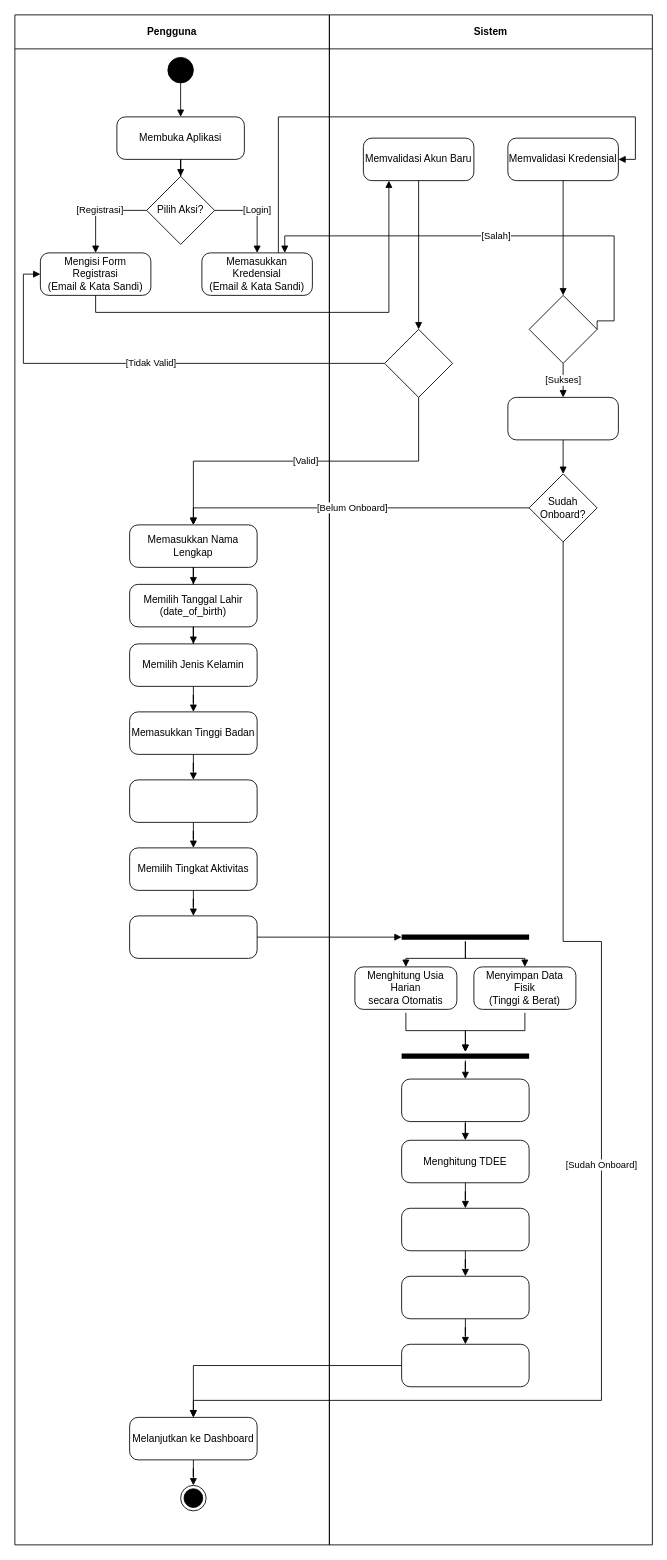
The diagram is 667 pixels wide and 1560 high, and some of its shapes have lost their labels. Here are the shapes that lost their labels. From the top down, the centre of each, then its label:
(x=562, y=329): Sukses?
(x=418, y=363): Valid?
(x=562, y=418): Memeriksa Kelengkapan Profil User
(x=193, y=800): Memasukkan Berat Badan
(x=193, y=936): Memilih Target Kebugaran
(x=465, y=1100): Menghitung BMR (Mifflin-St Jeor)
(x=465, y=1229): Menghitung Target Kalori & Makronutrisi
(x=465, y=1297): Menyimpan Profil & Target
(x=465, y=1365): Menampilkan Target yang Dihitung
